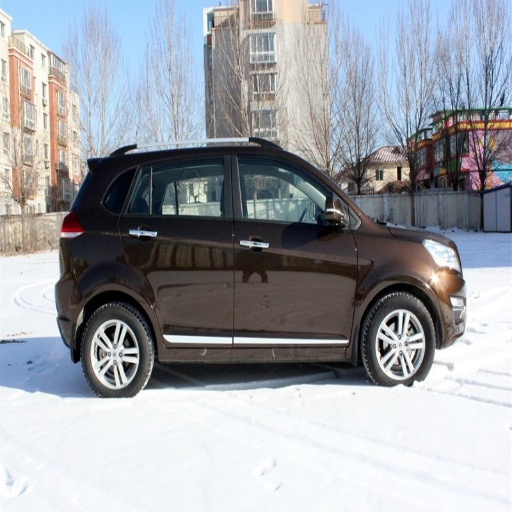back_right_door: (121, 145, 233, 350)
front_right_door: (234, 144, 358, 349)
